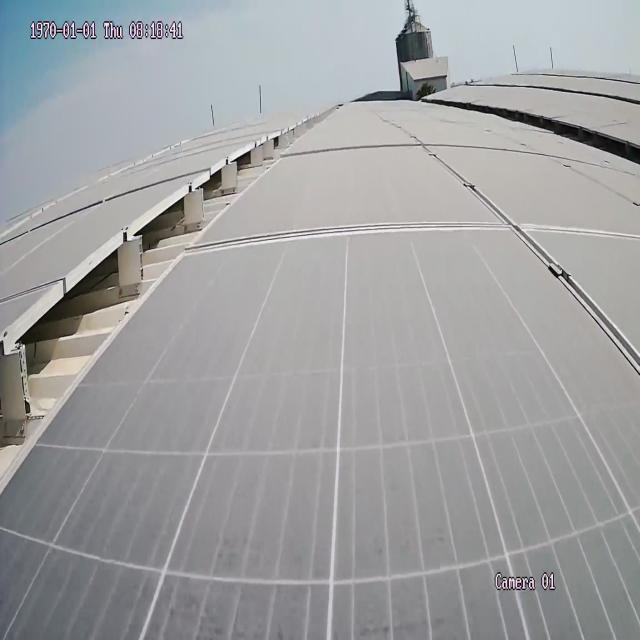interior panel: (413, 134, 637, 376)
outher panel: (0, 110, 331, 489), (475, 106, 640, 168)
